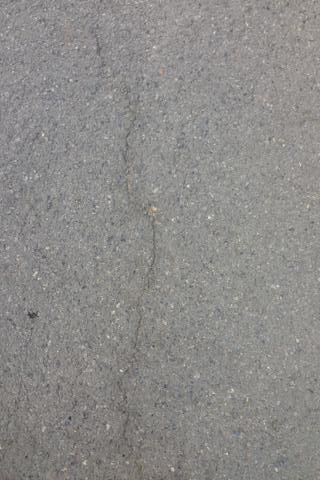A: (115, 96, 162, 477)
